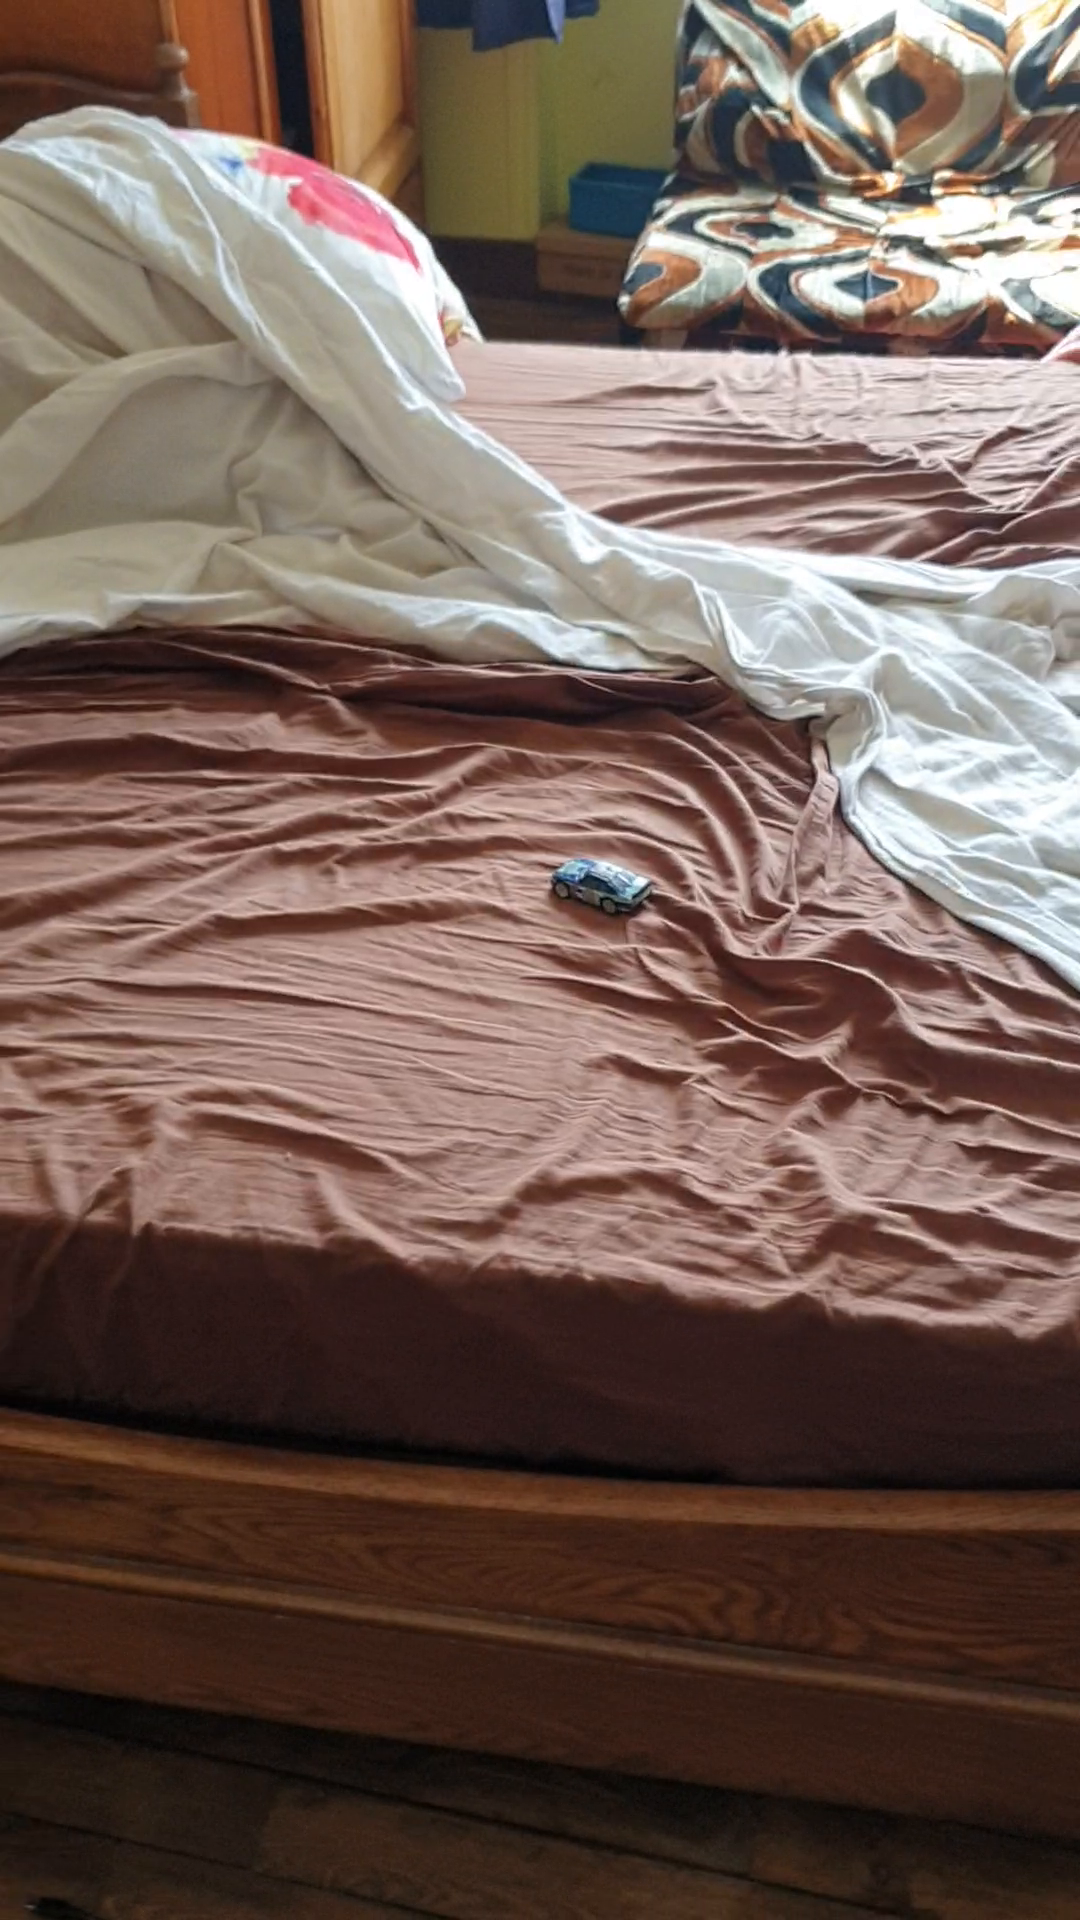cars: (549, 858, 654, 916)
